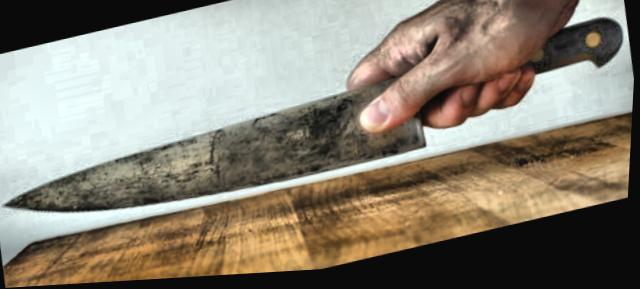knife: (0, 6, 498, 280)
